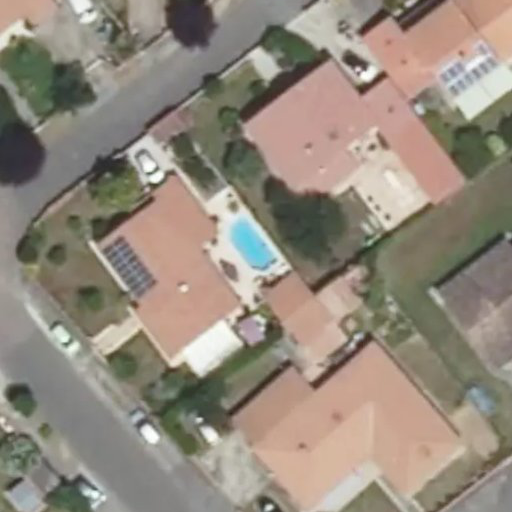pool: (224, 225, 279, 258)
